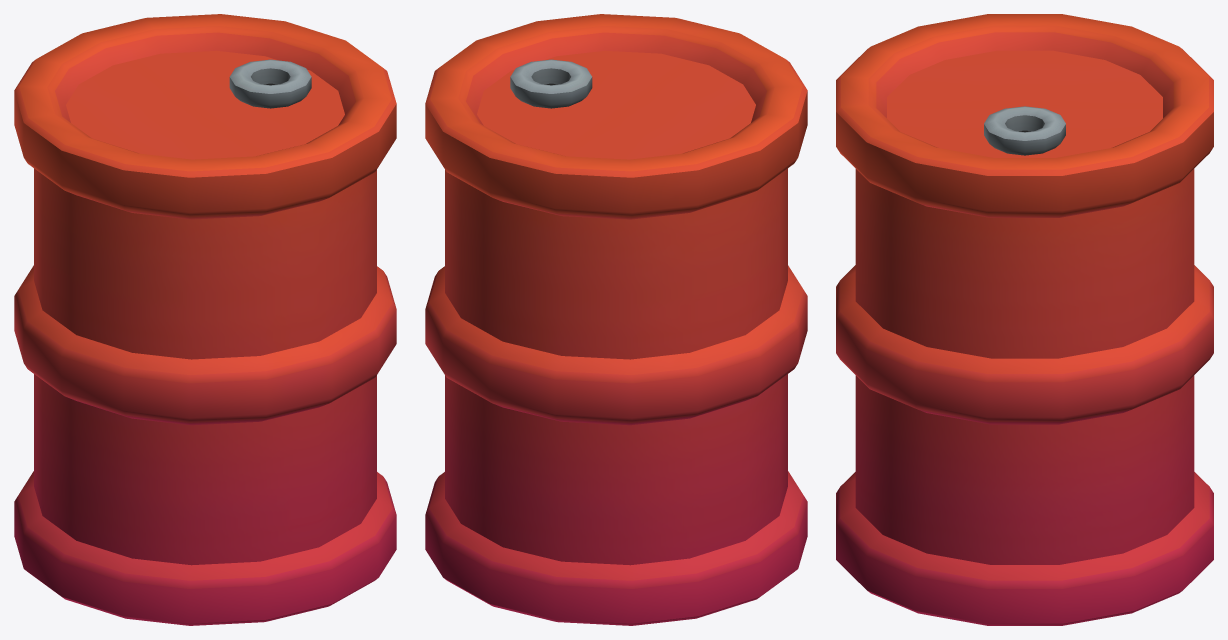
The model's file is fuel_a_barrel.glb.
3 renders of one model, left to right at view 1: azimuth 30°, elevation 25°; view 2: azimuth 150°, elevation 25°; view 3: azimuth 270°, elevation 25°, orthographic.
Visible parts, largest first — view 1: Fuel_A_Barrel; view 2: Fuel_A_Barrel; view 3: Fuel_A_Barrel.
Part boxes in pixels (x1,y1,x2,y2): Fuel_A_Barrel: (14, 14, 396, 625); Fuel_A_Barrel: (425, 14, 807, 625); Fuel_A_Barrel: (836, 14, 1213, 625).
Size of the model in its own units: 0.7501 by 1.01 by 0.7501.
Materials: 1 (1 with a texture image).
